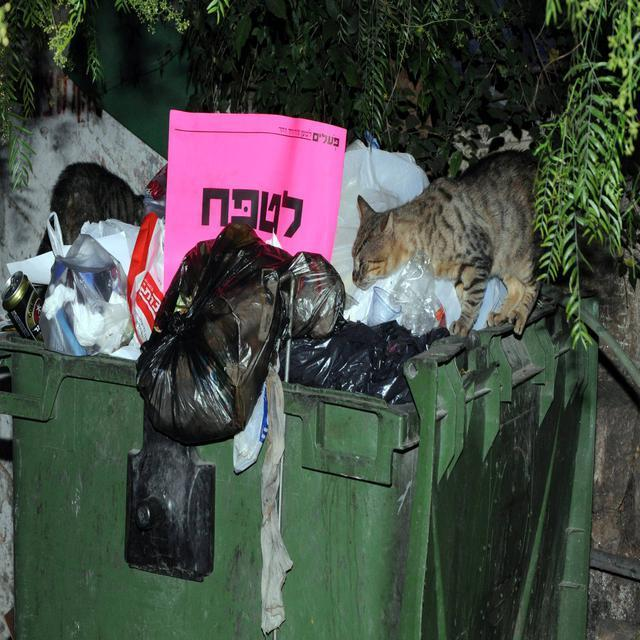garbage: (0, 148, 163, 383), (129, 208, 283, 450), (284, 251, 452, 419)
